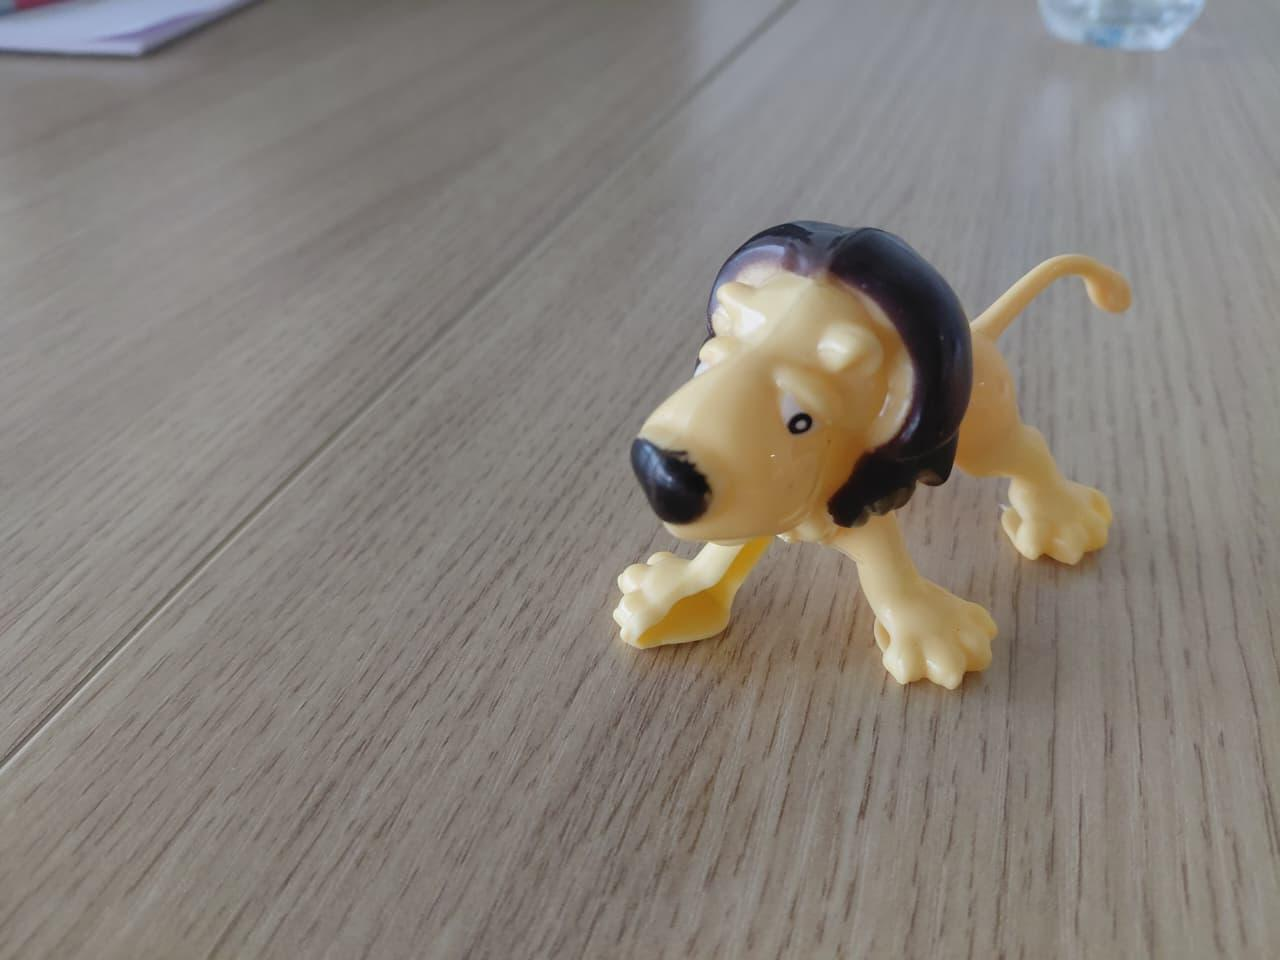lion: (590, 205, 1232, 706)
